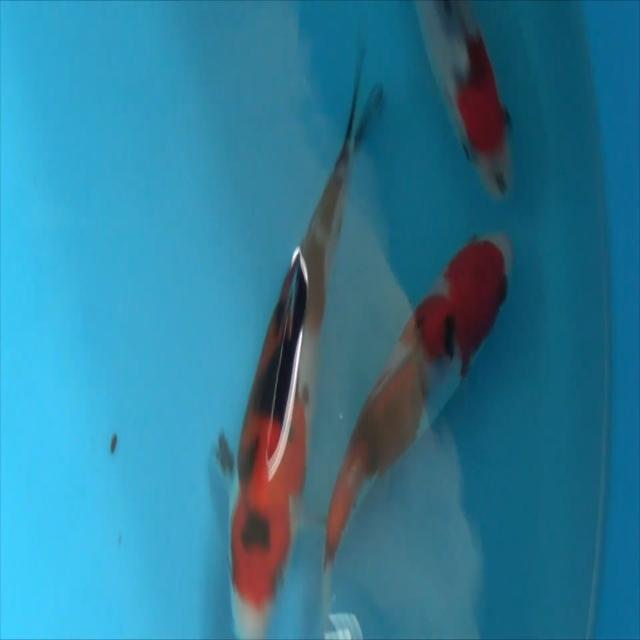Sanke: (216, 39, 385, 637), (321, 228, 514, 637), (413, 0, 513, 197)
